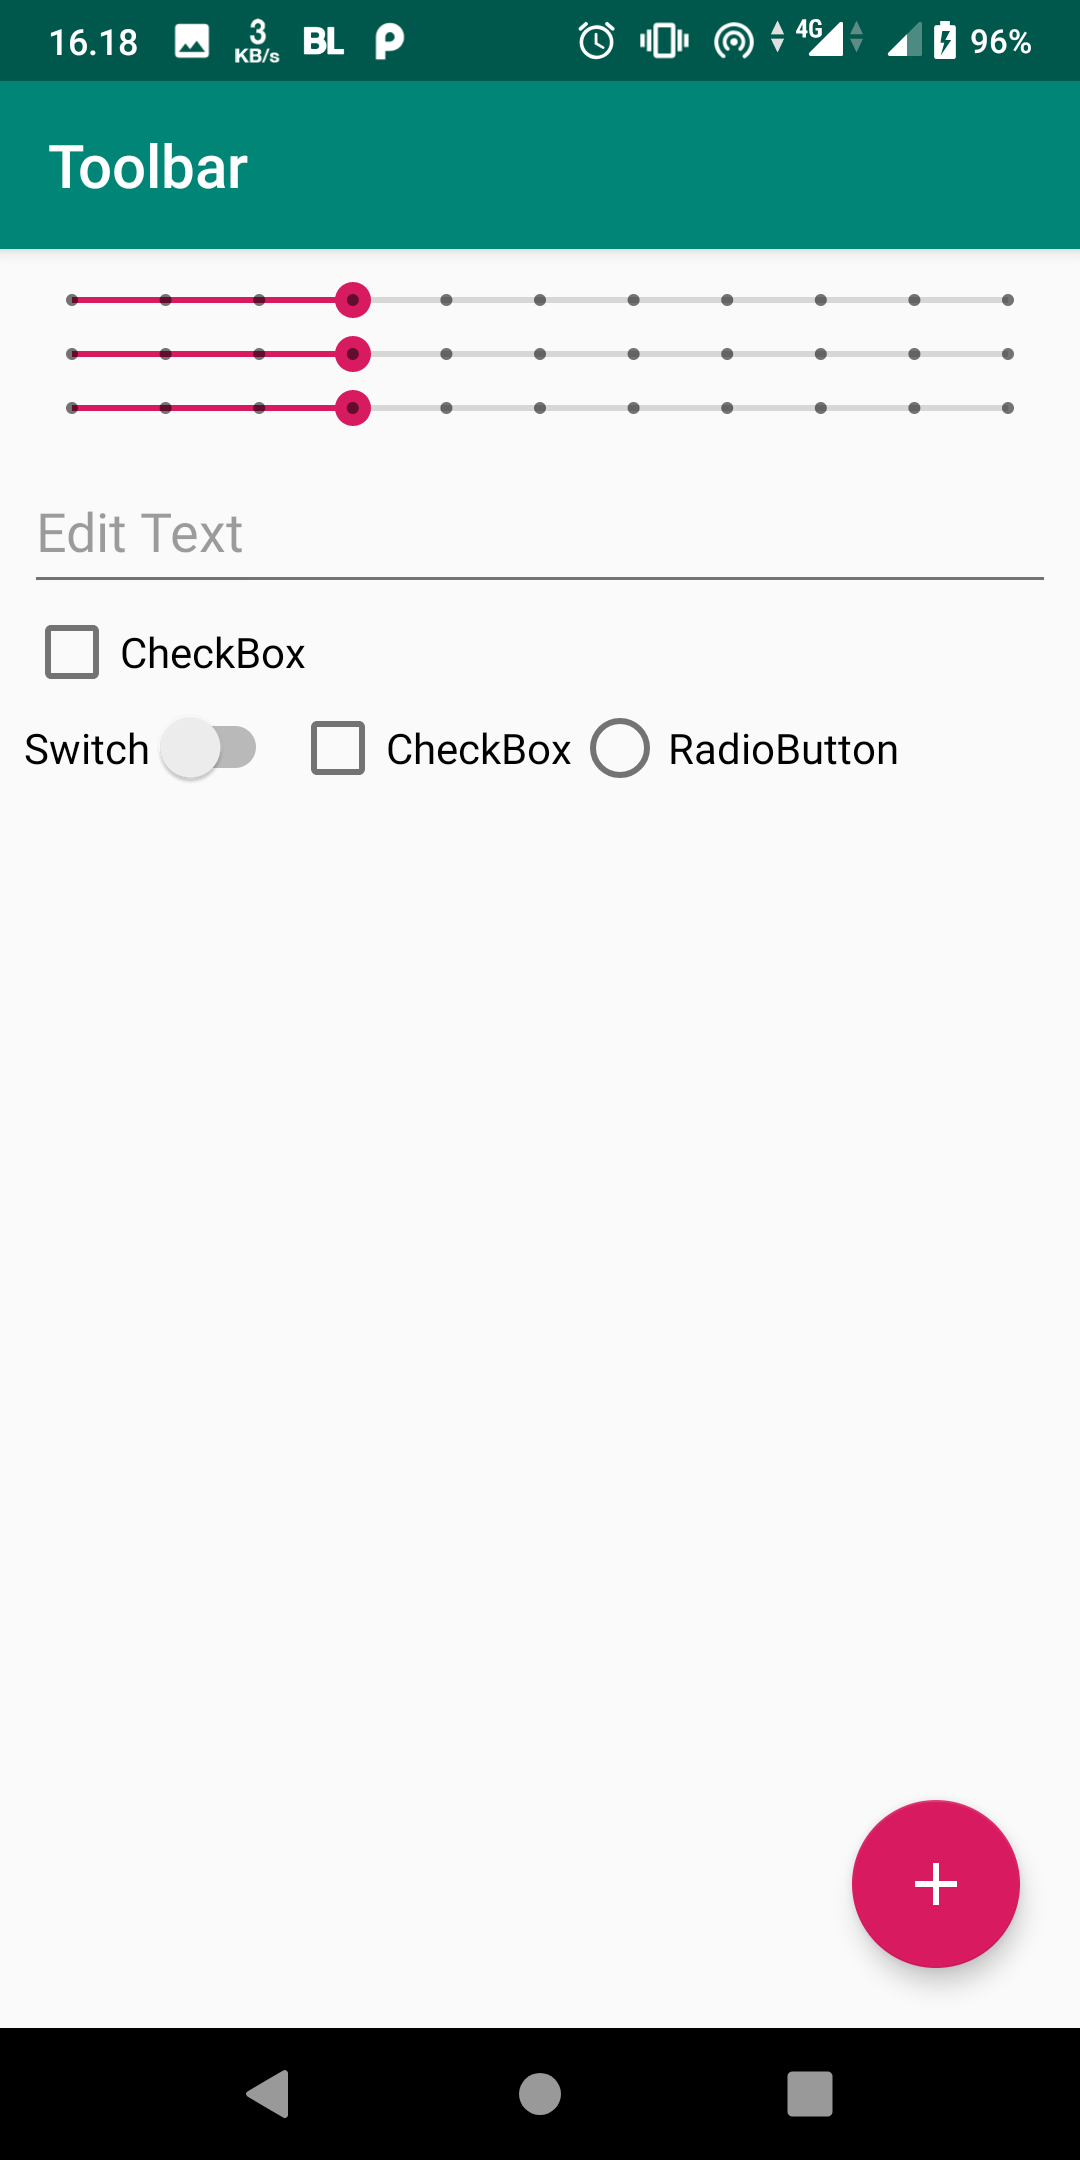checkBox: (302, 712, 574, 789), (33, 619, 317, 690)
editText: (30, 490, 1055, 602)
floatingButton: (836, 1787, 1036, 1991)
radioButton: (585, 707, 911, 782)
slider: (59, 386, 1036, 435), (62, 335, 1036, 371), (59, 280, 1024, 315)
switch: (17, 715, 269, 787)
toolbar: (4, 83, 1080, 251)
